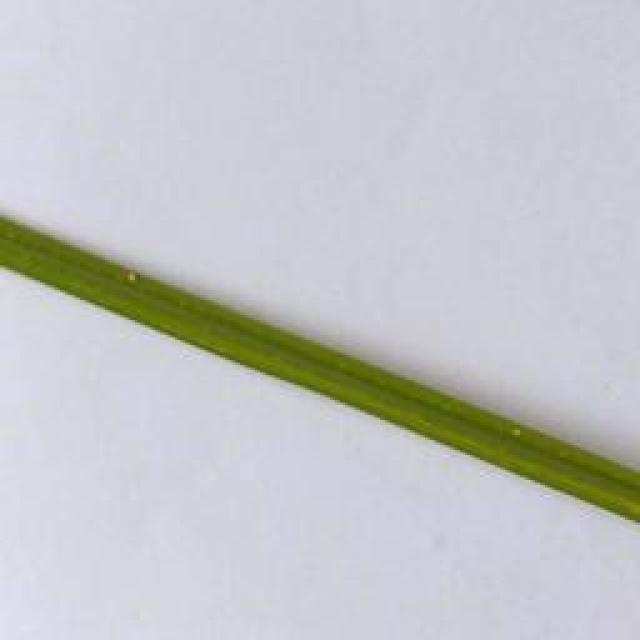Unhealthy: (120, 269, 143, 284), (511, 427, 521, 437)
